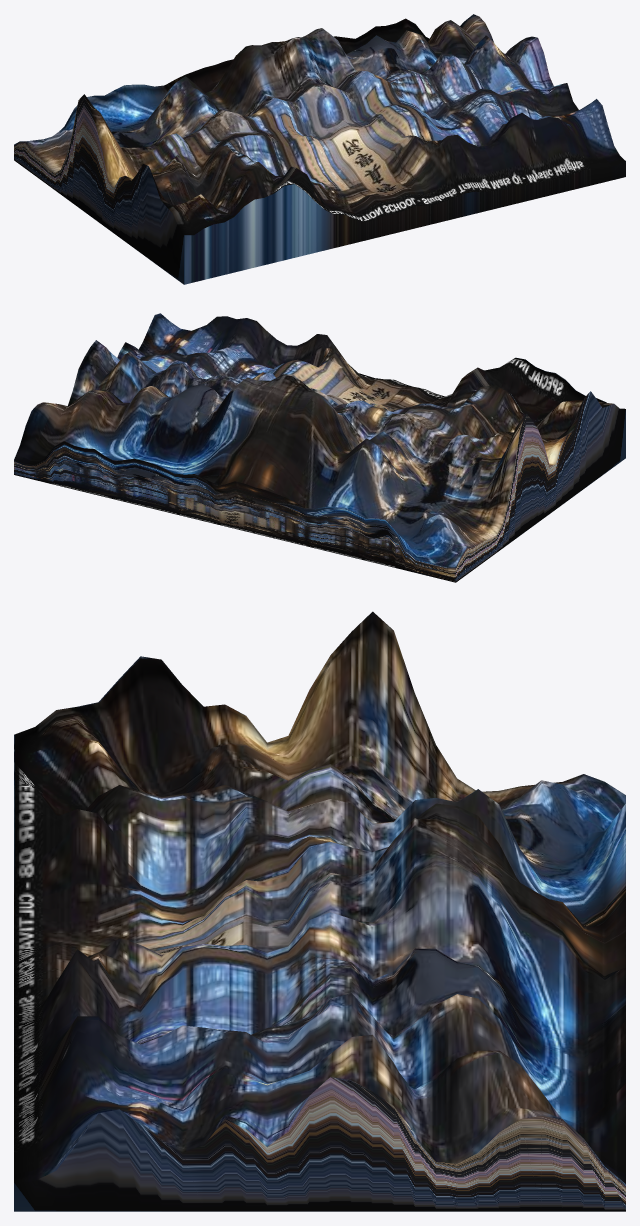
The model's file is SPECIAL_INT_08_Cultivation_School.glb.
3 views of the same model, one above another, from view 1: azimuth 30°, elevation 25°; view 2: azimuth 150°, elevation 25°; view 3: azimuth 270°, elevation 25° (orthographic). The views are drawn at different scales.
Parts seen in each view (by area): view 1: SPECIAL_INT_08_Cultivation_School; view 2: SPECIAL_INT_08_Cultivation_School; view 3: SPECIAL_INT_08_Cultivation_School.
Boxes of the visible parts, x1=… form: SPECIAL_INT_08_Cultivation_School: x1=14, y1=14, x2=625, y2=284; SPECIAL_INT_08_Cultivation_School: x1=14, y1=313, x2=625, y2=582; SPECIAL_INT_08_Cultivation_School: x1=14, y1=611, x2=625, y2=1211.
Size of the model in its own units: 2 by 0.51 by 1.33.
Materials: 1 (1 with a texture image).
